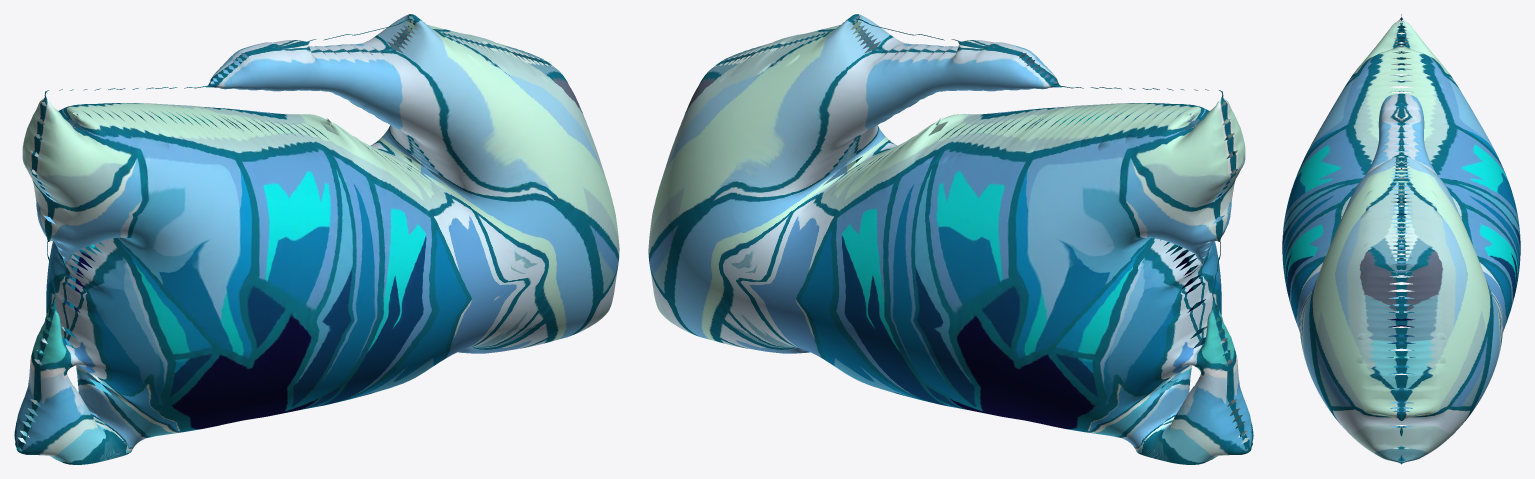
Rendered from ice_cave.glb.
3 views of the same model, side by side, from view 1: azimuth 30°, elevation 25°; view 2: azimuth 150°, elevation 25°; view 3: azimuth 270°, elevation 25° (orthographic). The views are drawn at different scales.
Parts seen in each view (by area): view 1: ice_cave; view 2: ice_cave; view 3: ice_cave.
Boxes of the visible parts, x1=… form: ice_cave: x1=14, y1=14, x2=619, y2=464; ice_cave: x1=648, y1=14, x2=1253, y2=464; ice_cave: x1=1282, y1=14, x2=1520, y2=464.
Bounding box in the file's own units: 0.9892 × 0.5727 × 0.4746.
1 material, 1 textured.
